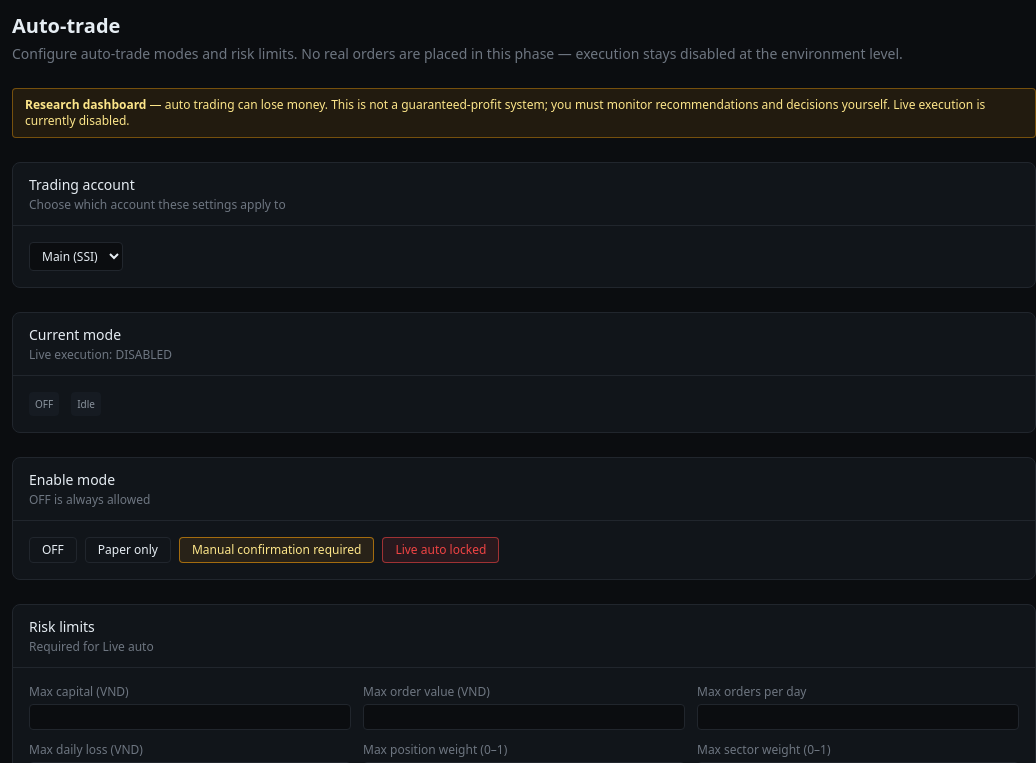
it: AutoTradePage › toggles to PAPER_ONLY on the Paper button
Click the button with test id "btn-paper". click: (128, 550)
box: [85, 537, 171, 563]
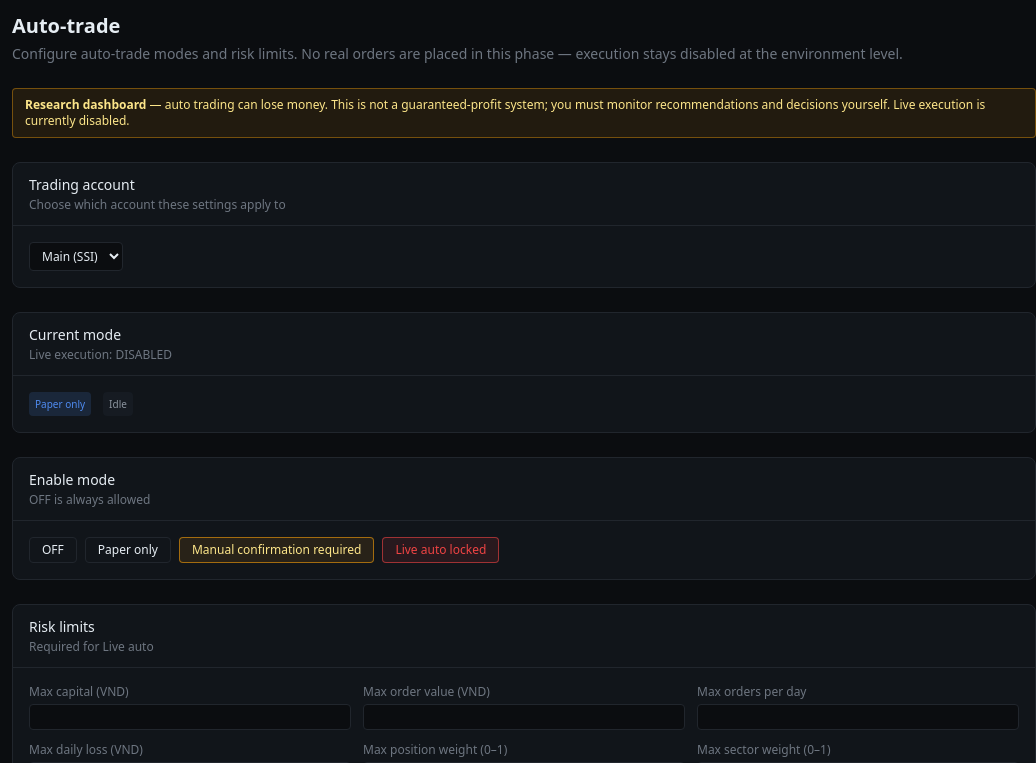
expect the text with test id "current-mode" reads "Paper only": met, box [35, 397, 85, 411]
